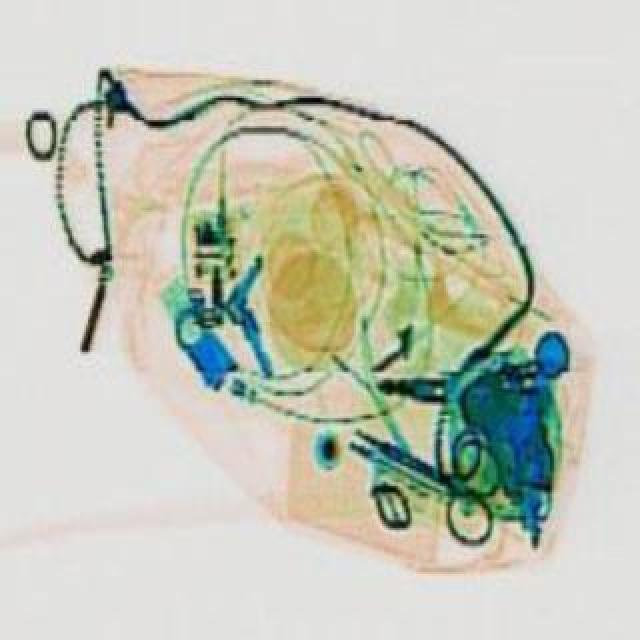pliers: (326, 390, 526, 546)
